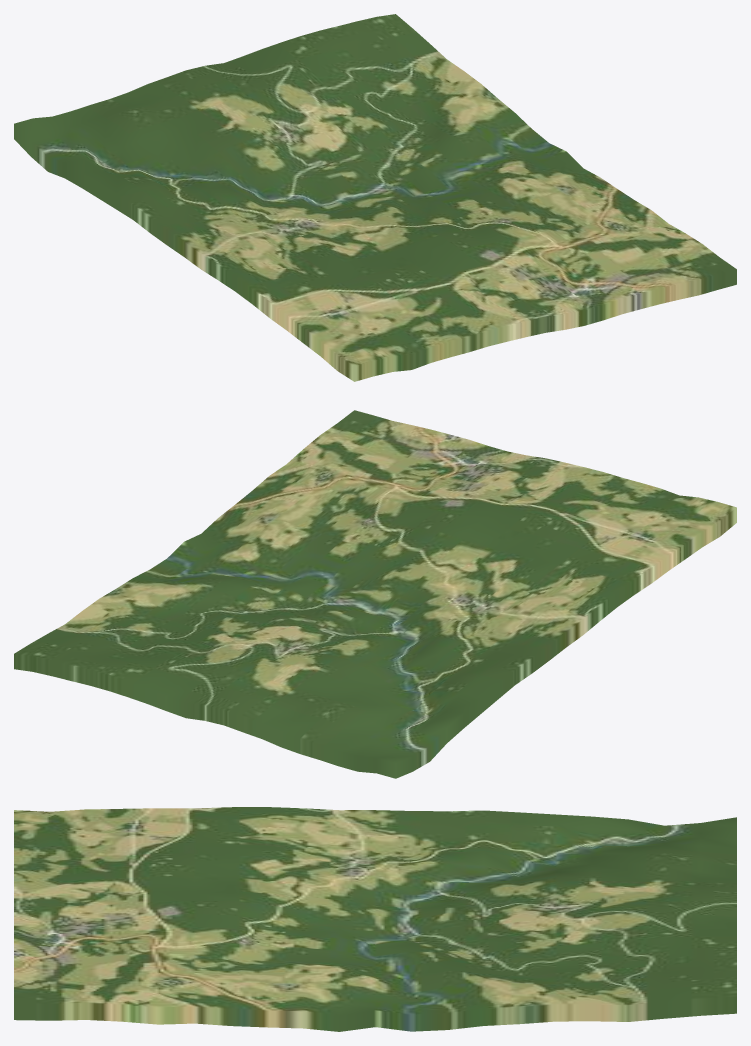
3 renders of one model, top to bottom at view 1: azimuth 30°, elevation 25°; view 2: azimuth 150°, elevation 25°; view 3: azimuth 270°, elevation 25°, orthographic. The views are drawn at different scales.
Bounding box in the file's own units: 6335 × 664 × 9777.
1 material, 1 textured.
